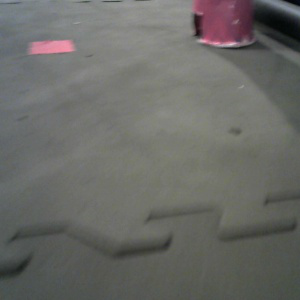Right: (191, 1, 257, 48)
